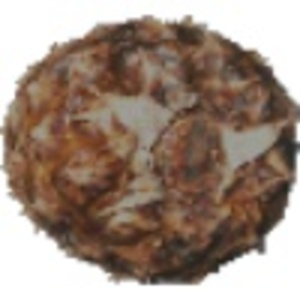abacaxi: (6, 23, 297, 281)
